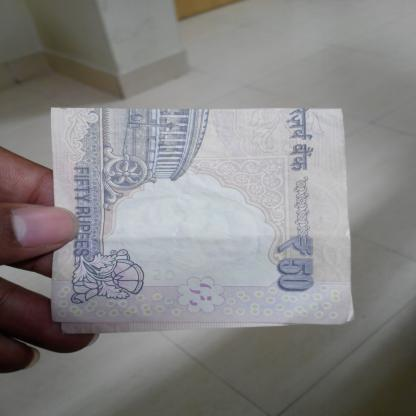Old50Back: (46, 108, 355, 334)
